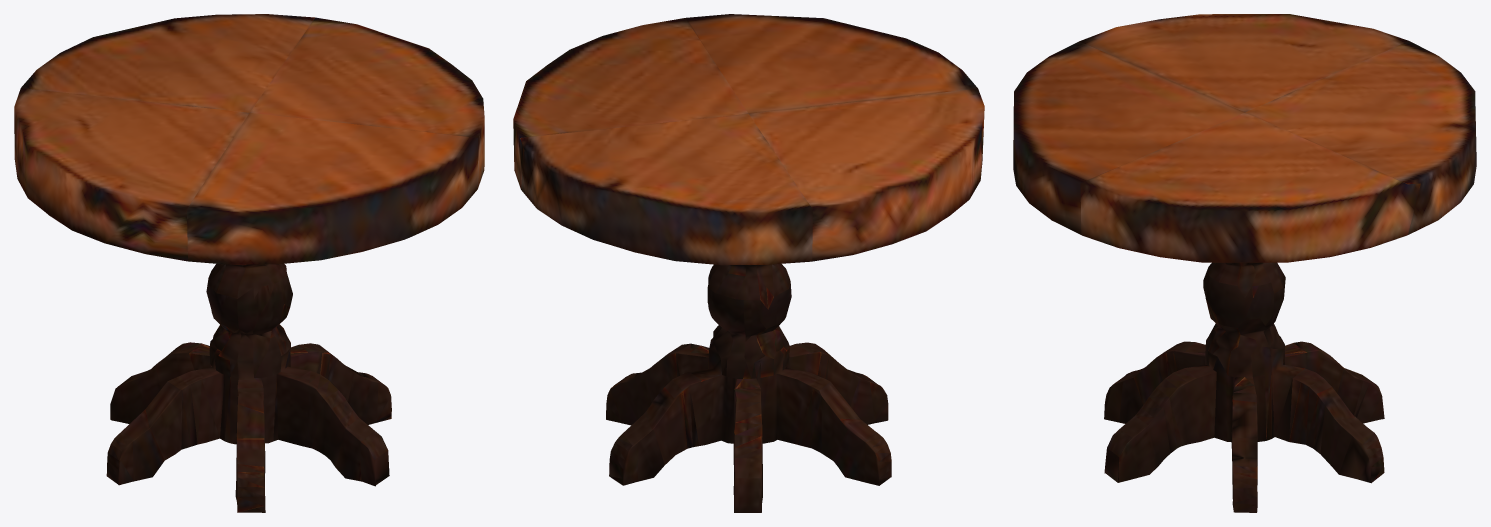
File: round-table.lod1.glb
The picture shows the model from 3 angles, left to right: view 1: azimuth 30°, elevation 25°; view 2: azimuth 150°, elevation 25°; view 3: azimuth 270°, elevation 25°; orthographic projection.
Bounding box in the file's own units: 0.95 × 0.76 × 0.95.
1 material, 1 textured.
